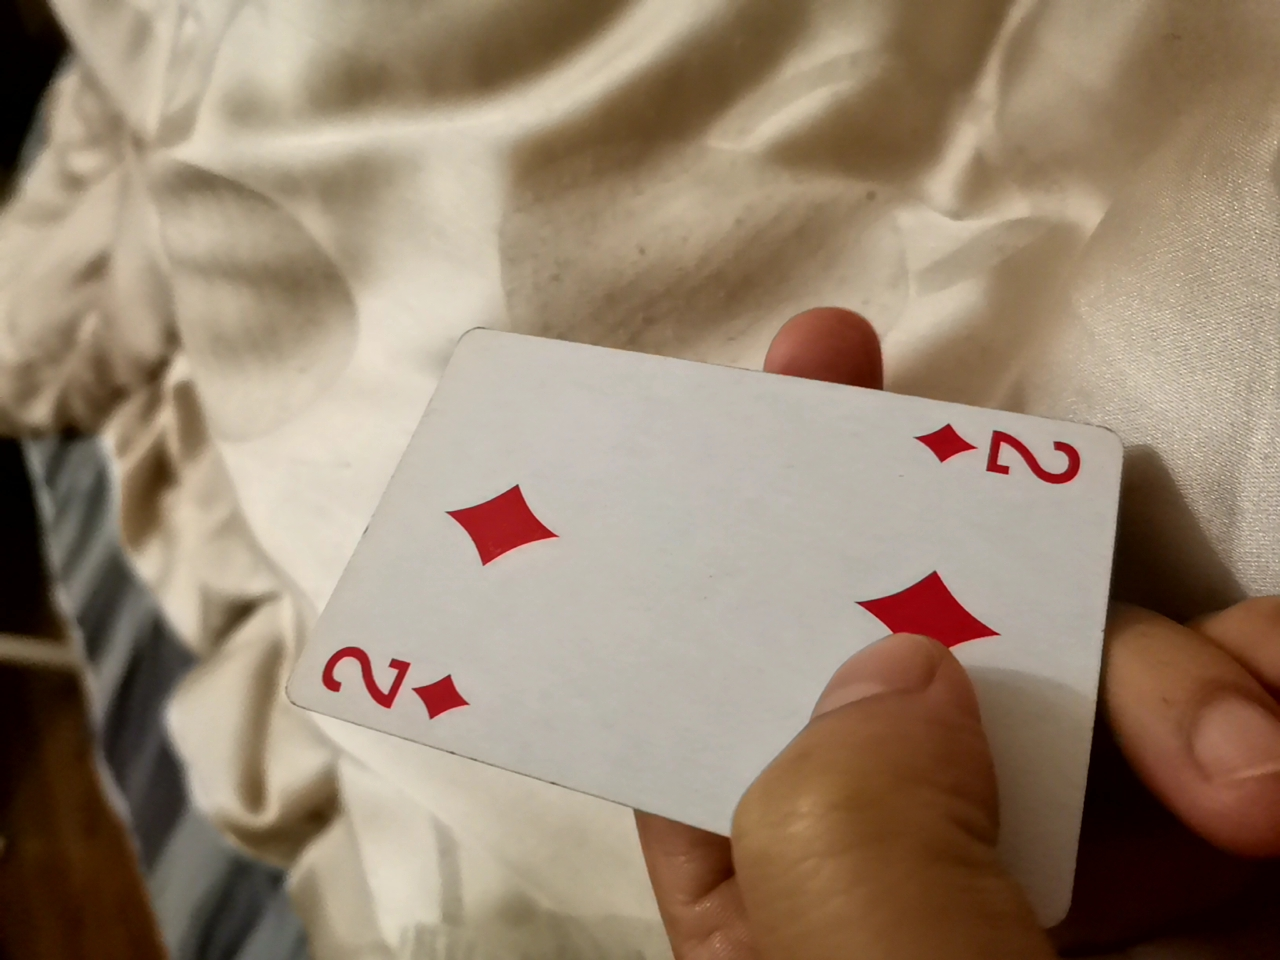fk 2: (296, 341, 1121, 849)
